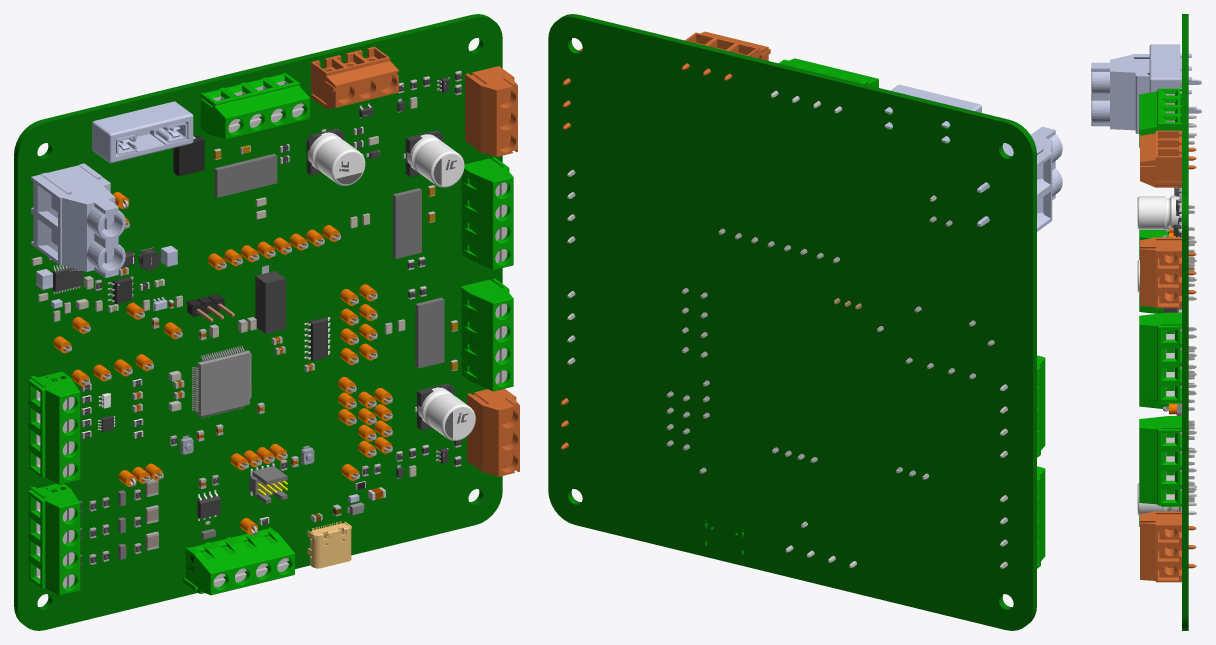
File: MainboardPCB.glb
The picture shows the model from 3 angles, left to right: view 1: azimuth 30°, elevation 25°; view 2: azimuth 150°, elevation 25°; view 3: azimuth 270°, elevation 25°; orthographic projection. The views are drawn at different scales.
Visible parts, largest first — view 1: PCB, NAUO1_47, c-282836-4-j-3d:1_4, c-282836-4-j-3d:1_2, c-282836-4-j-3d:1_1, c-282836-4-j-3d:1, c-282836-4-j-3d:1_5, c-282836-4-j-3d:1_3, 3:1_7, 3:1_6, 3:1_8, =>[0:1:1:2] (+4 smaller); view 2: PCB, NAUO1_47, c-282836-4-j-3d:1_3, c-282836-4-j-3d:1, c-282836-4-j-3d:1_5; view 3: PCB, NAUO1_47, c-282836-4-j-3d:1_2, c-282836-4-j-3d:1_4, c-282836-4-j-3d:1_3, 3:1_7, c-282836-4-j-3d:1, 3:1_8, 2:1_4, 2:1_2, c-282836-4-j-3d:1_5, 3:1_4.
Boxes of the visible parts, <box> form: PCB: <box>14,14,519,630</box>; NAUO1_47: <box>31,163,125,277</box>; c-282836-4-j-3d:1_4: <box>460,278,513,391</box>; c-282836-4-j-3d:1_2: <box>460,157,513,270</box>; c-282836-4-j-3d:1_1: <box>183,527,294,595</box>; c-282836-4-j-3d:1: <box>28,371,80,484</box>; c-282836-4-j-3d:1_5: <box>28,483,80,595</box>; c-282836-4-j-3d:1_3: <box>200,72,309,139</box>; 3:1_7: <box>308,132,365,185</box>; 3:1_6: <box>407,134,464,187</box>; 3:1_8: <box>418,387,475,440</box>; =>[0:1:1:2]: <box>255,271,286,333</box>; PCB: <box>548,14,1036,630</box>; NAUO1_47: <box>977,126,1062,231</box>; c-282836-4-j-3d:1_3: <box>779,58,878,87</box>; c-282836-4-j-3d:1: <box>1037,355,1045,457</box>; c-282836-4-j-3d:1_5: <box>1037,466,1045,568</box>; PCB: <box>1140,14,1196,630</box>; NAUO1_47: <box>1091,54,1201,133</box>; c-282836-4-j-3d:1_2: <box>1139,312,1181,403</box>; c-282836-4-j-3d:1_4: <box>1139,416,1181,506</box>; c-282836-4-j-3d:1_3: <box>1139,88,1181,147</box>; 3:1_7: <box>1137,196,1179,229</box>; c-282836-4-j-3d:1: <box>1139,230,1168,313</box>; 3:1_8: <box>1137,483,1179,515</box>; 2:1_4: <box>1166,433,1174,499</box>; 2:1_2: <box>1166,330,1174,396</box>; c-282836-4-j-3d:1_5: <box>1139,399,1168,409</box>; 3:1_4: <box>1180,430,1196,491</box>.
Size of what is drawn, in the model's own units: 0.1143 by 0.1143 by 0.0265.
